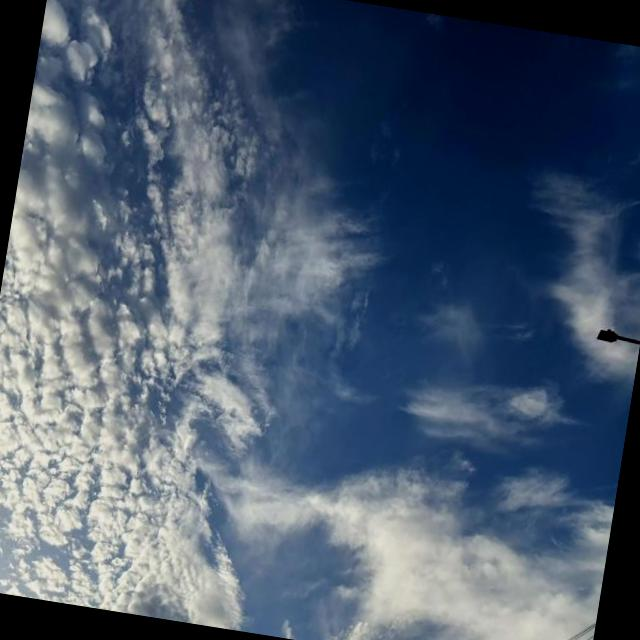altocumulus: (0, 0, 363, 634)
cumulus: (302, 331, 581, 640)
